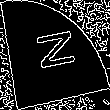N_W: (31, 31, 79, 79)
